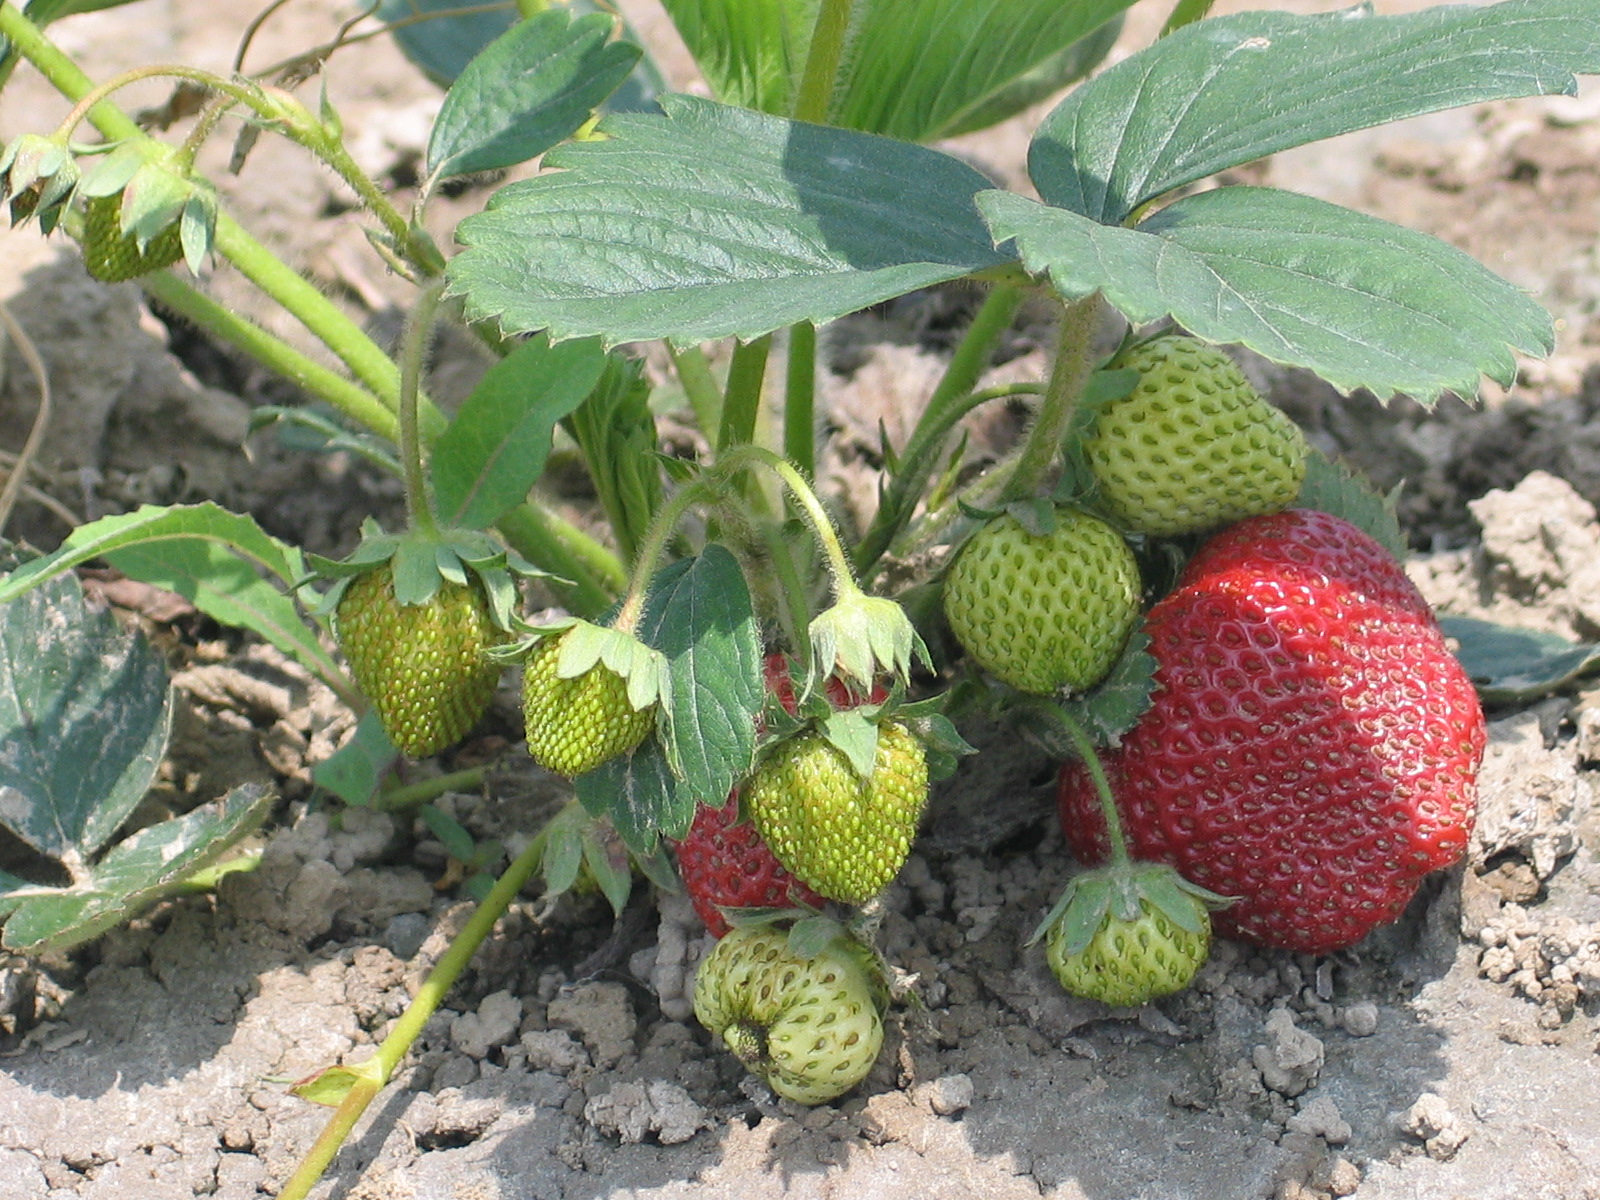StrawberryIrremovable: (1072, 334, 1318, 526), (940, 504, 1144, 696), (336, 558, 522, 756), (692, 920, 889, 1104), (740, 712, 929, 903), (1048, 868, 1212, 1010), (520, 624, 666, 774), (72, 158, 218, 281)
StrawberryOther: (658, 638, 913, 948)
StrawberryRemovable: (1049, 504, 1487, 950), (661, 637, 913, 944)
StrawberryWedge: (1044, 502, 1490, 954)
